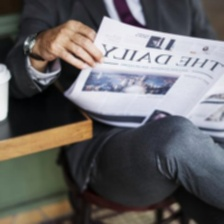news_paper: (57, 13, 224, 140)
